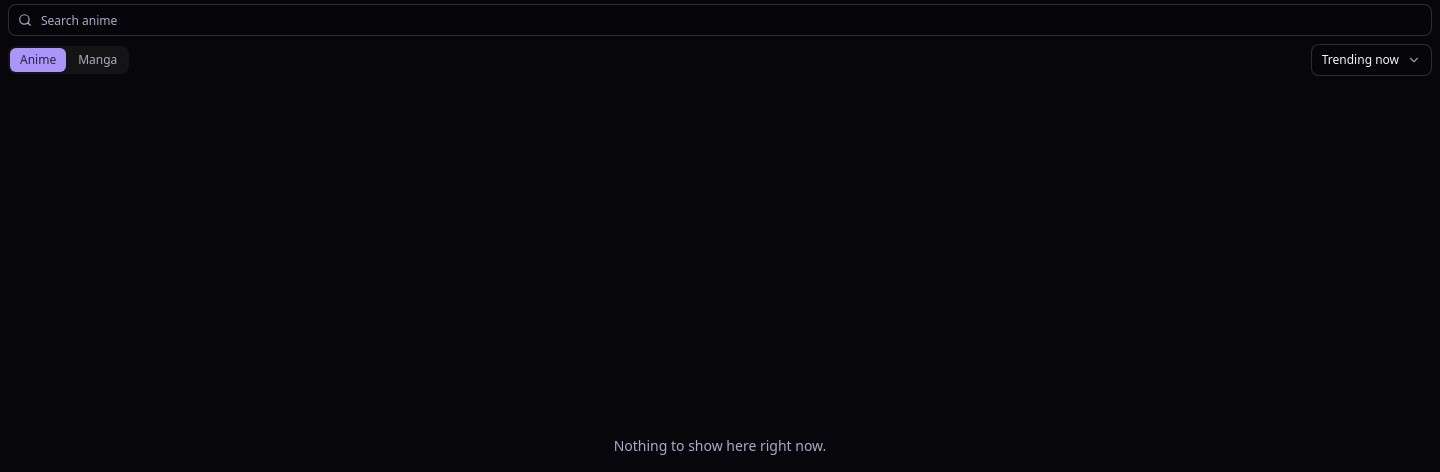
Scenario: DiscoverView search › never lets a slow earlier search overwrite a newer one
In the search field labelled "Search anime": {"x": 720, "y": 20} [8,4,1432,36], type "fr"
Wait 300 ms
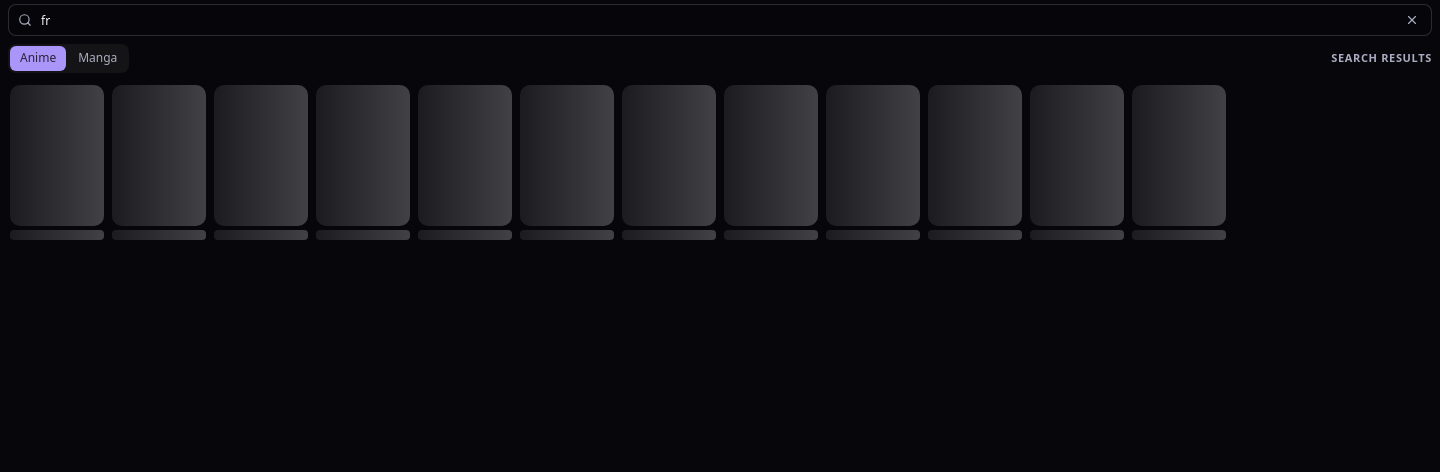
Replace the text in the search field named "Search anime" with "frieren": {"x": 720, "y": 20} [8,4,1432,36]
Wait 300 ms
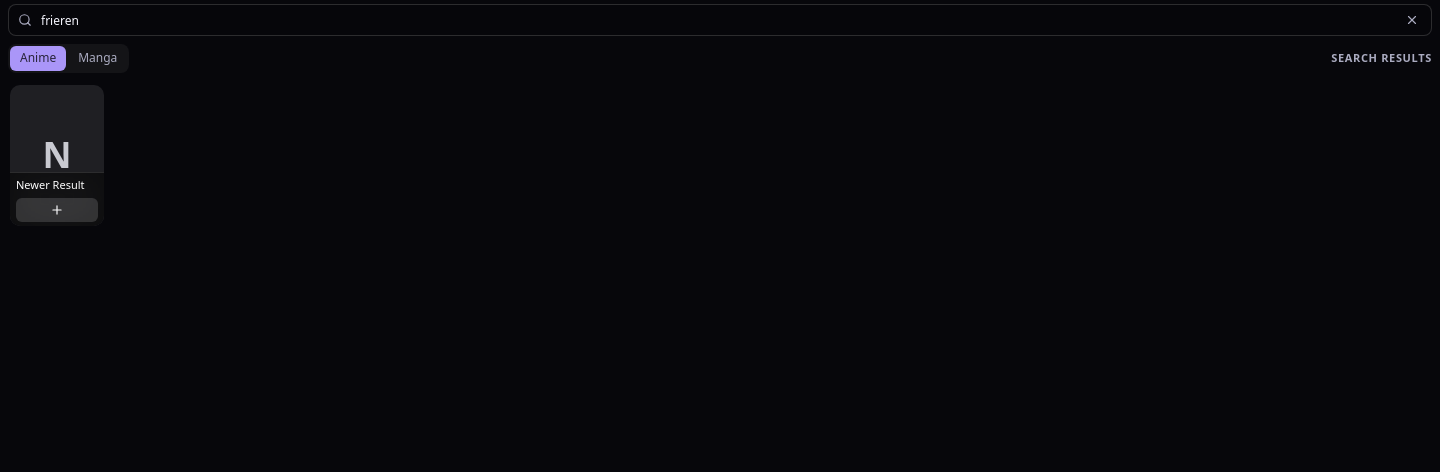
Check: the text "Newer Result" is shown, box [16,177,84,192]
